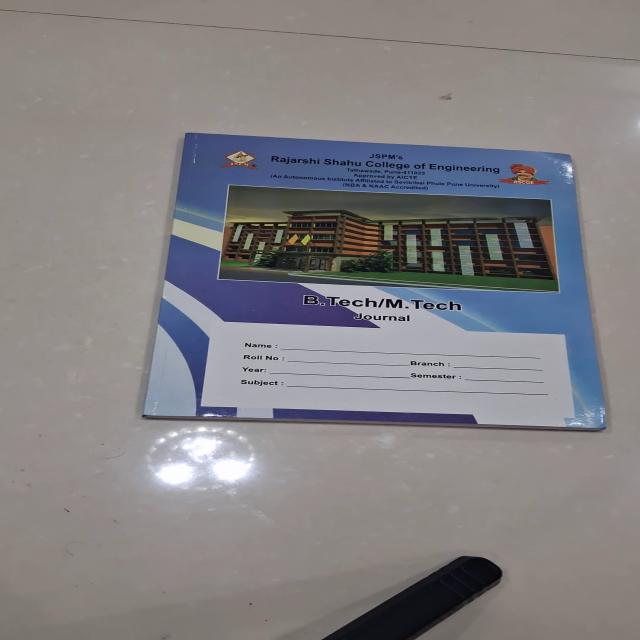paper: (140, 132, 608, 430)
